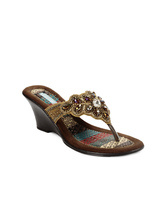shoes: (20, 84, 150, 160)
